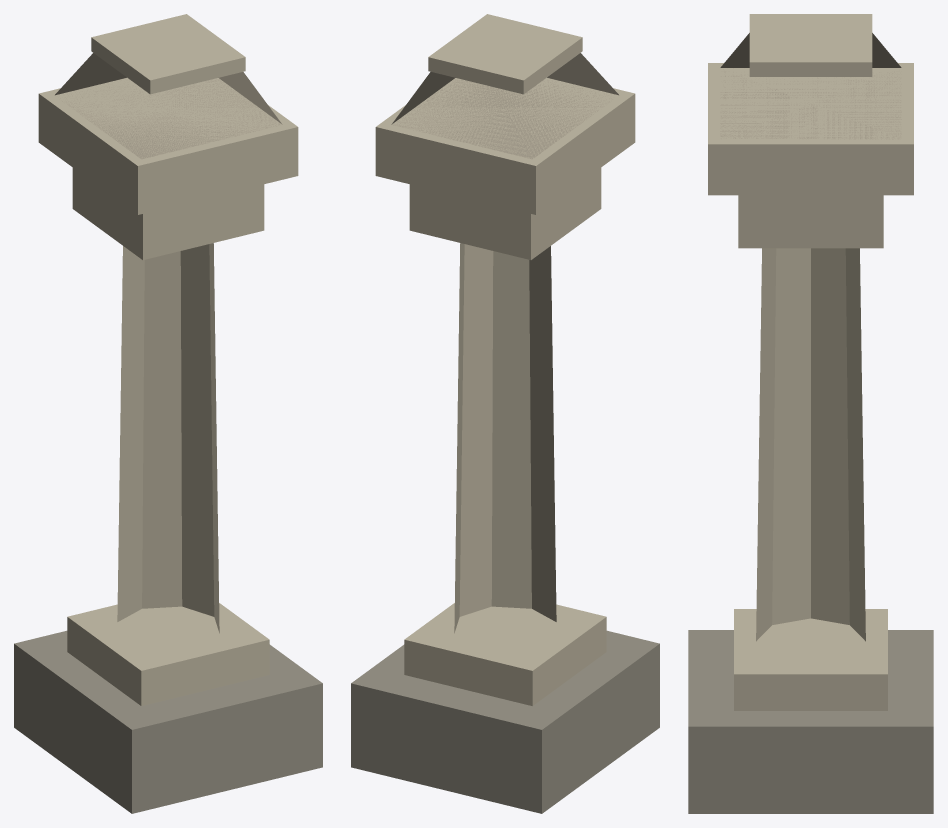
The model's file is ruina_pilar_lejos.glb.
3 views of the same model, side by side, from view 1: azimuth 30°, elevation 25°; view 2: azimuth 150°, elevation 25°; view 3: azimuth 270°, elevation 25° (orthographic). The views are drawn at different scales.
Visible parts, largest first — view 1: ruina_pilar_lejos; view 2: ruina_pilar_lejos; view 3: ruina_pilar_lejos.
Part boxes in pixels (box(x1,y1,x2,y2)): ruina_pilar_lejos: box(14, 14, 322, 813); ruina_pilar_lejos: box(351, 14, 659, 813); ruina_pilar_lejos: box(688, 14, 933, 813).
Size of the model in its own units: 2.5 by 8.77 by 2.68.
